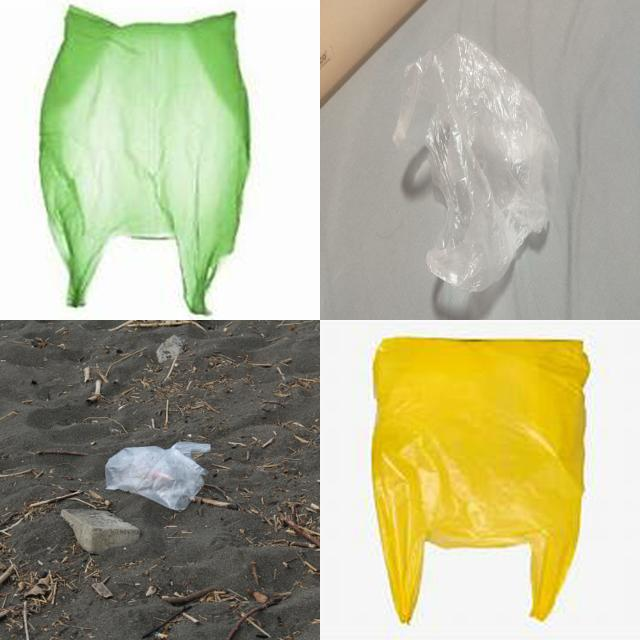Single-layer Plastic: (40, 6, 250, 314), (372, 338, 589, 624), (392, 34, 559, 291), (105, 441, 211, 510)
